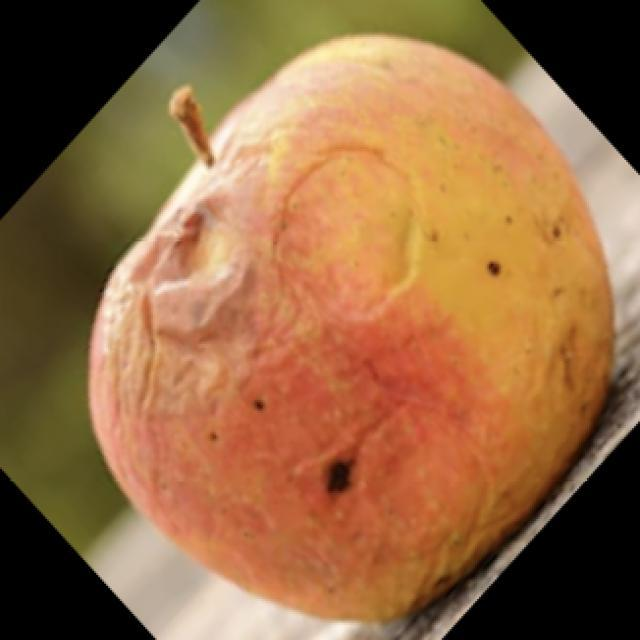Rotten: (83, 18, 592, 600)
